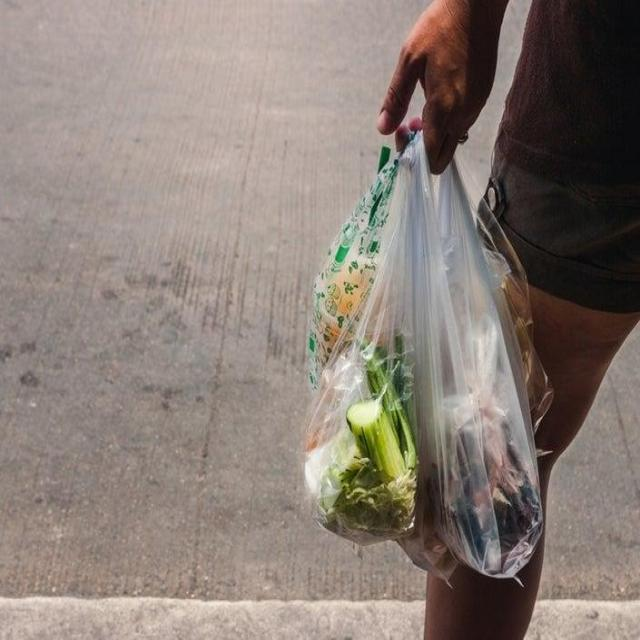plastic_bag: (407, 130, 553, 611), (293, 129, 461, 542)
